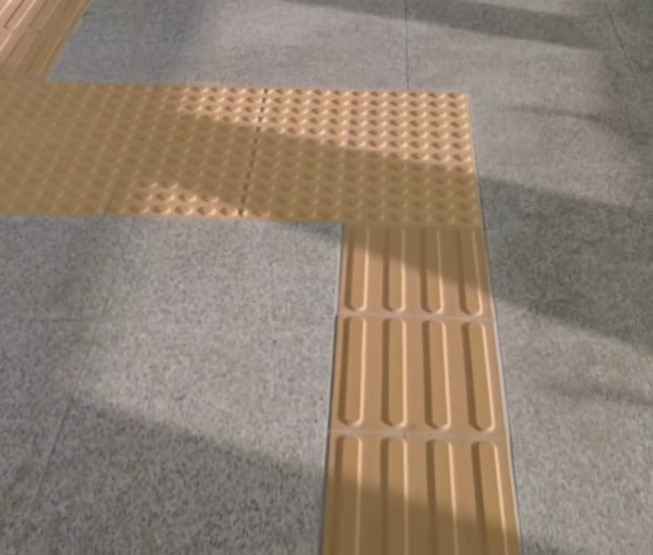guideBlock: (324, 441, 531, 555), (325, 313, 514, 436), (356, 232, 492, 320)
warningBlock: (250, 166, 478, 229), (275, 89, 464, 163), (7, 142, 117, 214), (121, 160, 237, 215), (16, 87, 130, 140), (142, 91, 251, 135)
